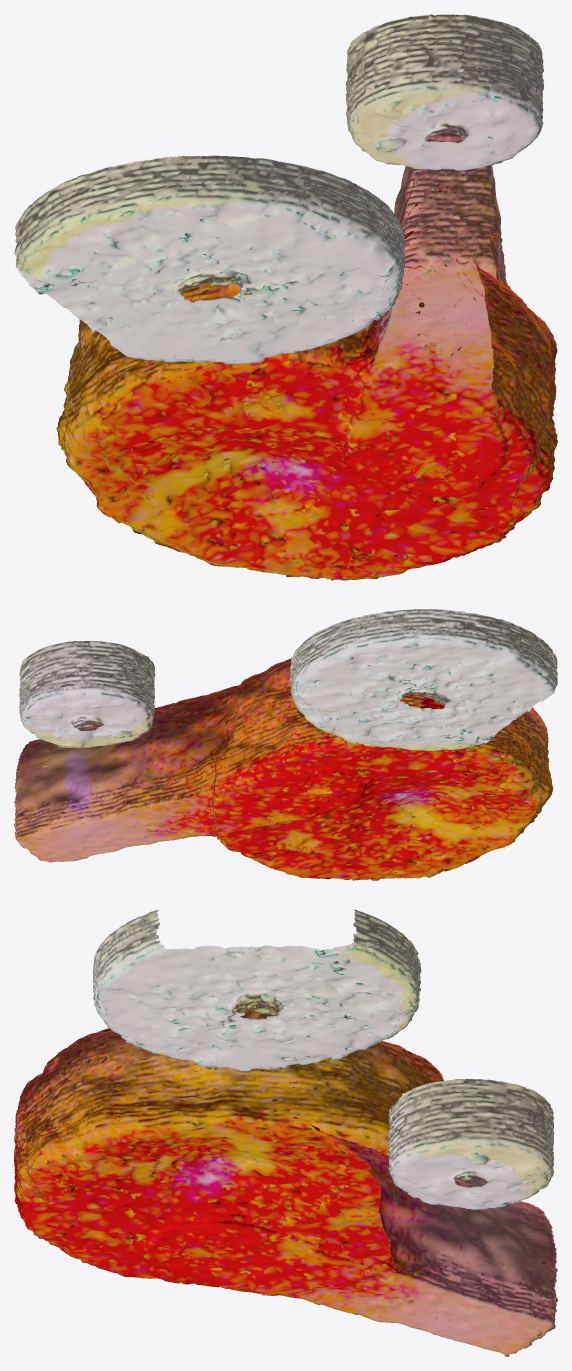
File: sunfall-shell.glb
3 views of the same model, one above another, from view 1: azimuth 30°, elevation 25°; view 2: azimuth 150°, elevation 25°; view 3: azimuth 270°, elevation 25° (orthographic). The views are drawn at different scales.
Parts seen in each view (by area): view 1: Shell1, Shell0; view 2: Shell0, Shell1; view 3: Shell1, Shell0.
Part boxes in pixels (box(x1,y1,x2,y2)): Shell1: box(14, 155, 480, 580); Shell0: box(228, 14, 557, 548); Shell0: box(14, 614, 430, 862); Shell1: box(257, 609, 557, 880); Shell1: box(14, 909, 443, 1231); Shell0: box(20, 1045, 557, 1356).
Bounding box in the file's own units: 1044 × 436 × 1004.
